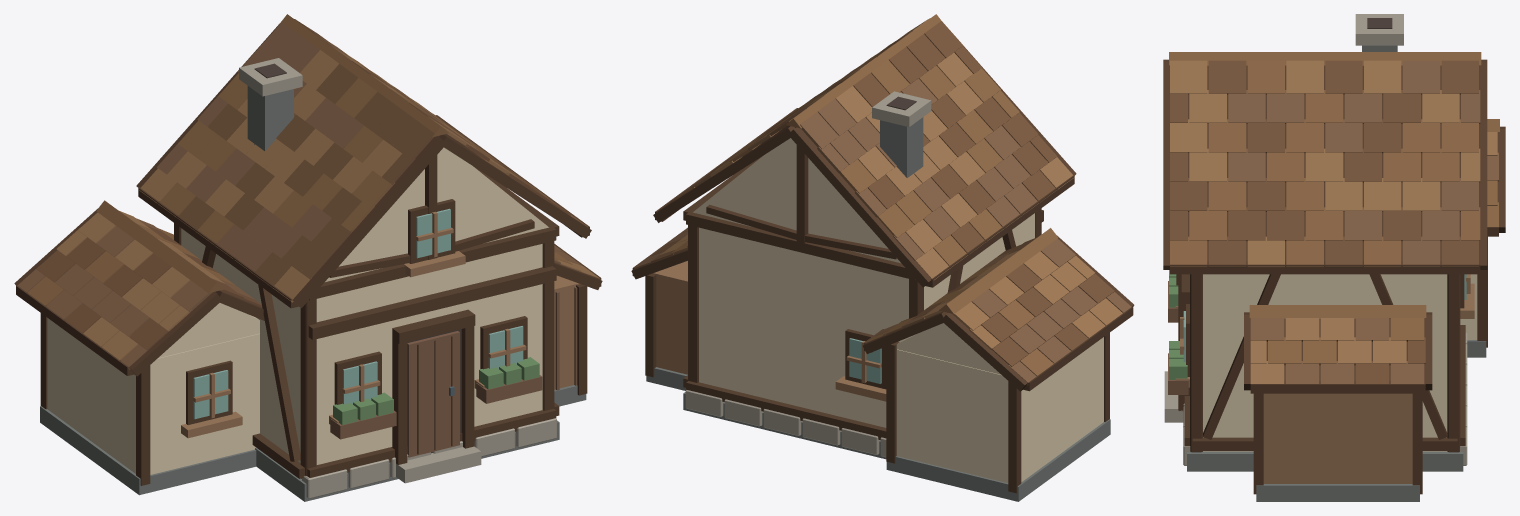
Rendered from ENV_Cottage_B_LOD0.glb.
The picture shows the model from 3 angles, left to right: view 1: azimuth 30°, elevation 25°; view 2: azimuth 150°, elevation 25°; view 3: azimuth 270°, elevation 25°; orthographic projection. The views are drawn at different scales.
Parts seen in each view (by area): view 1: ENV_Cottage_B_LOD0_roof_roofTiles, ENV_Cottage_B_LOD0_shell_plasterIvory, ENV_Cottage_B_LOD0_shell_woodDark, ENV_Cottage_B_LOD0_wing_plasterIvory, ENV_Cottage_B_LOD0_wing_roofTiles, ENV_Cottage_B_LOD0_roof_woodDark, ENV_Cottage_B_LOD0_wing_woodDark, ENV_Cottage_B_LOD0_shell_wood, ENV_Cottage_B_LOD0_wing_stoneDark, ENV_Cottage_B_LOD0_foundation_stone, ENV_Cottage_B_LOD0_shell_glass, ENV_Cottage_B_LOD0_occupied_leafLight (+11 smaller); view 2: ENV_Cottage_B_LOD0_shell_plasterIvory, ENV_Cottage_B_LOD0_roof_roofTiles, ENV_Cottage_B_LOD0_wing_plasterIvory, ENV_Cottage_B_LOD0_wing_roofTiles, ENV_Cottage_B_LOD0_shell_woodDark, ENV_Cottage_B_LOD0_wing_woodDark, ENV_Cottage_B_LOD0_roof_woodDark, ENV_Cottage_B_LOD0_foundation_stone, ENV_Cottage_B_LOD0_wing_stoneDark, ENV_Cottage_B_LOD0_shed_woodLight, ENV_Cottage_B_LOD0_shed_woodDark, ENV_Cottage_B_LOD0_occupied_stoneDark (+6 smaller); view 3: ENV_Cottage_B_LOD0_roof_roofTiles, ENV_Cottage_B_LOD0_shell_plasterIvory, ENV_Cottage_B_LOD0_shed_roofTiles, ENV_Cottage_B_LOD0_shed_woodLight, ENV_Cottage_B_LOD0_shell_woodDark, ENV_Cottage_B_LOD0_roof_woodDark, ENV_Cottage_B_LOD0_shed_woodDark, ENV_Cottage_B_LOD0_shed_stoneDark, ENV_Cottage_B_LOD0_foundation_stoneDark, ENV_Cottage_B_LOD0_wing_woodDark, ENV_Cottage_B_LOD0_occupied_stone, ENV_Cottage_B_LOD0_wing_roofTiles (+6 smaller).
Part boxes in pixels (x1,y1,x2,y2): ENV_Cottage_B_LOD0_roof_roofTiles: (139, 14, 587, 302); ENV_Cottage_B_LOD0_shell_plasterIvory: (181, 147, 548, 464); ENV_Cottage_B_LOD0_shell_woodDark: (174, 155, 559, 478); ENV_Cottage_B_LOD0_wing_plasterIvory: (47, 303, 259, 474); ENV_Cottage_B_LOD0_wing_roofTiles: (17, 200, 262, 369); ENV_Cottage_B_LOD0_roof_woodDark: (136, 23, 591, 308); ENV_Cottage_B_LOD0_wing_woodDark: (14, 208, 264, 485); ENV_Cottage_B_LOD0_shell_wood: (407, 331, 459, 457); ENV_Cottage_B_LOD0_wing_stoneDark: (40, 406, 256, 495); ENV_Cottage_B_LOD0_foundation_stone: (302, 418, 556, 498); ENV_Cottage_B_LOD0_shell_glass: (343, 208, 523, 404); ENV_Cottage_B_LOD0_occupied_leafLight: (333, 357, 539, 424); ENV_Cottage_B_LOD0_shell_plasterIvory: (693, 138, 1034, 427); ENV_Cottage_B_LOD0_roof_roofTiles: (657, 14, 1074, 280); ENV_Cottage_B_LOD0_wing_plasterIvory: (896, 323, 1103, 482); ENV_Cottage_B_LOD0_wing_roofTiles: (864, 228, 1131, 385); ENV_Cottage_B_LOD0_shell_woodDark: (683, 145, 1043, 439); ENV_Cottage_B_LOD0_wing_woodDark: (863, 235, 1134, 493); ENV_Cottage_B_LOD0_roof_woodDark: (653, 45, 1076, 287); ENV_Cottage_B_LOD0_foundation_stone: (685, 390, 886, 457); ENV_Cottage_B_LOD0_wing_stoneDark: (886, 419, 1110, 501); ENV_Cottage_B_LOD0_shed_woodLight: (652, 261, 687, 374); ENV_Cottage_B_LOD0_shed_woodDark: (631, 227, 687, 377); ENV_Cottage_B_LOD0_occupied_stoneDark: (880, 117, 923, 177); ENV_Cottage_B_LOD0_roof_roofTiles: (1169, 52, 1481, 267); ENV_Cottage_B_LOD0_shell_plasterIvory: (1203, 274, 1447, 451); ENV_Cottage_B_LOD0_shed_roofTiles: (1249, 305, 1426, 383); ENV_Cottage_B_LOD0_shed_woodLight: (1263, 393, 1412, 483); ENV_Cottage_B_LOD0_shell_woodDark: (1176, 274, 1465, 452); ENV_Cottage_B_LOD0_roof_woodDark: (1163, 59, 1487, 274); ENV_Cottage_B_LOD0_shed_woodDark: (1244, 312, 1432, 494); ENV_Cottage_B_LOD0_shed_stoneDark: (1256, 484, 1419, 501); ENV_Cottage_B_LOD0_foundation_stoneDark: (1187, 451, 1463, 471); ENV_Cottage_B_LOD0_wing_woodDark: (1477, 126, 1505, 347); ENV_Cottage_B_LOD0_occupied_stone: (1355, 14, 1403, 45); ENV_Cottage_B_LOD0_wing_roofTiles: (1487, 119, 1499, 226).
Size of the model in its own units: 7.18 by 5.2 by 4.52.
